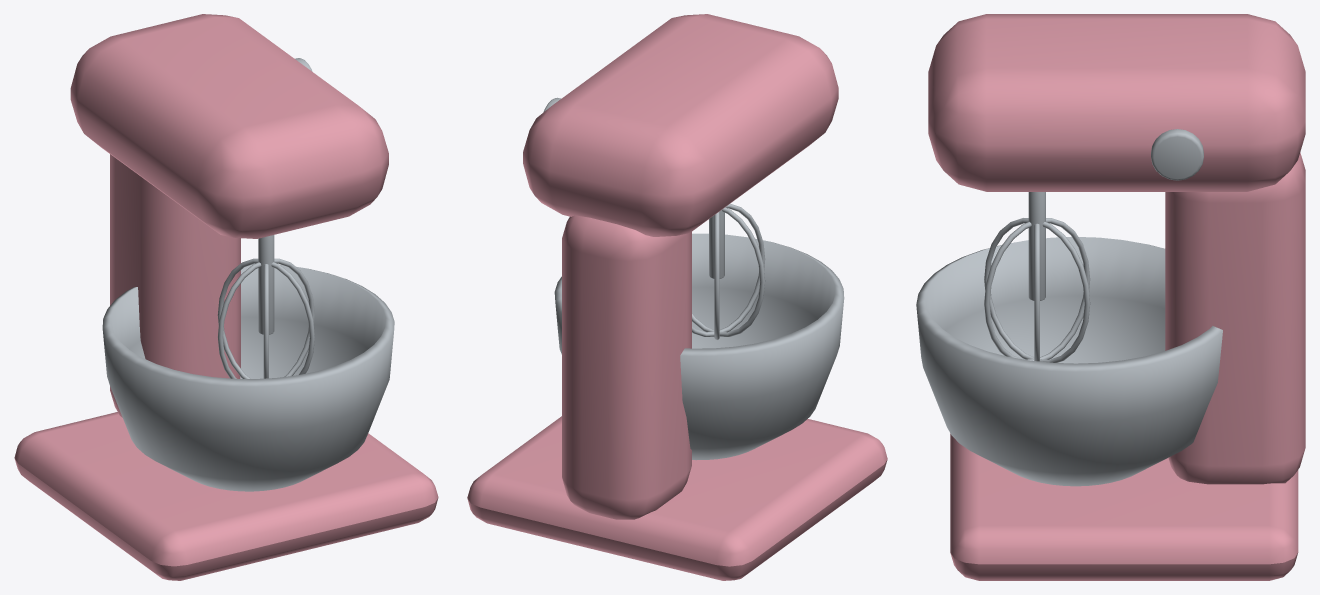
Rendered from prop_stand_mixer.glb.
The picture shows the model from 3 angles, left to right: view 1: azimuth 30°, elevation 25°; view 2: azimuth 150°, elevation 25°; view 3: azimuth 270°, elevation 25°; orthographic projection. The views are drawn at different scales.
Parts seen in each view (by area): view 1: mixer_base, speed_dial; view 2: mixer_base, speed_dial; view 3: mixer_base, speed_dial.
Boxes of the visible parts, x1,y1,x2,y2 form: mixer_base: (14,14,438,580); speed_dial: (102,58,394,491); mixer_base: (467,14,887,580); speed_dial: (543,97,844,460); mixer_base: (928,14,1305,580); speed_dial: (916,129,1222,486).
Bounding box in the file's own units: 0.74 × 1.07 × 0.805.
